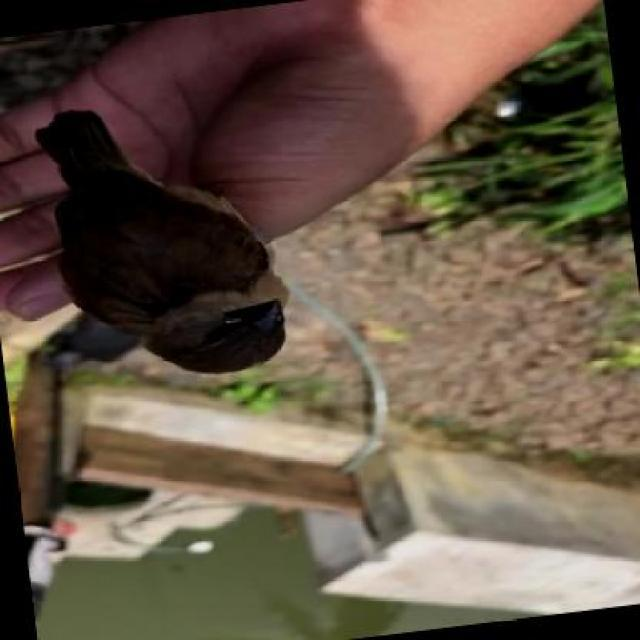Bird: (26, 103, 302, 411)
